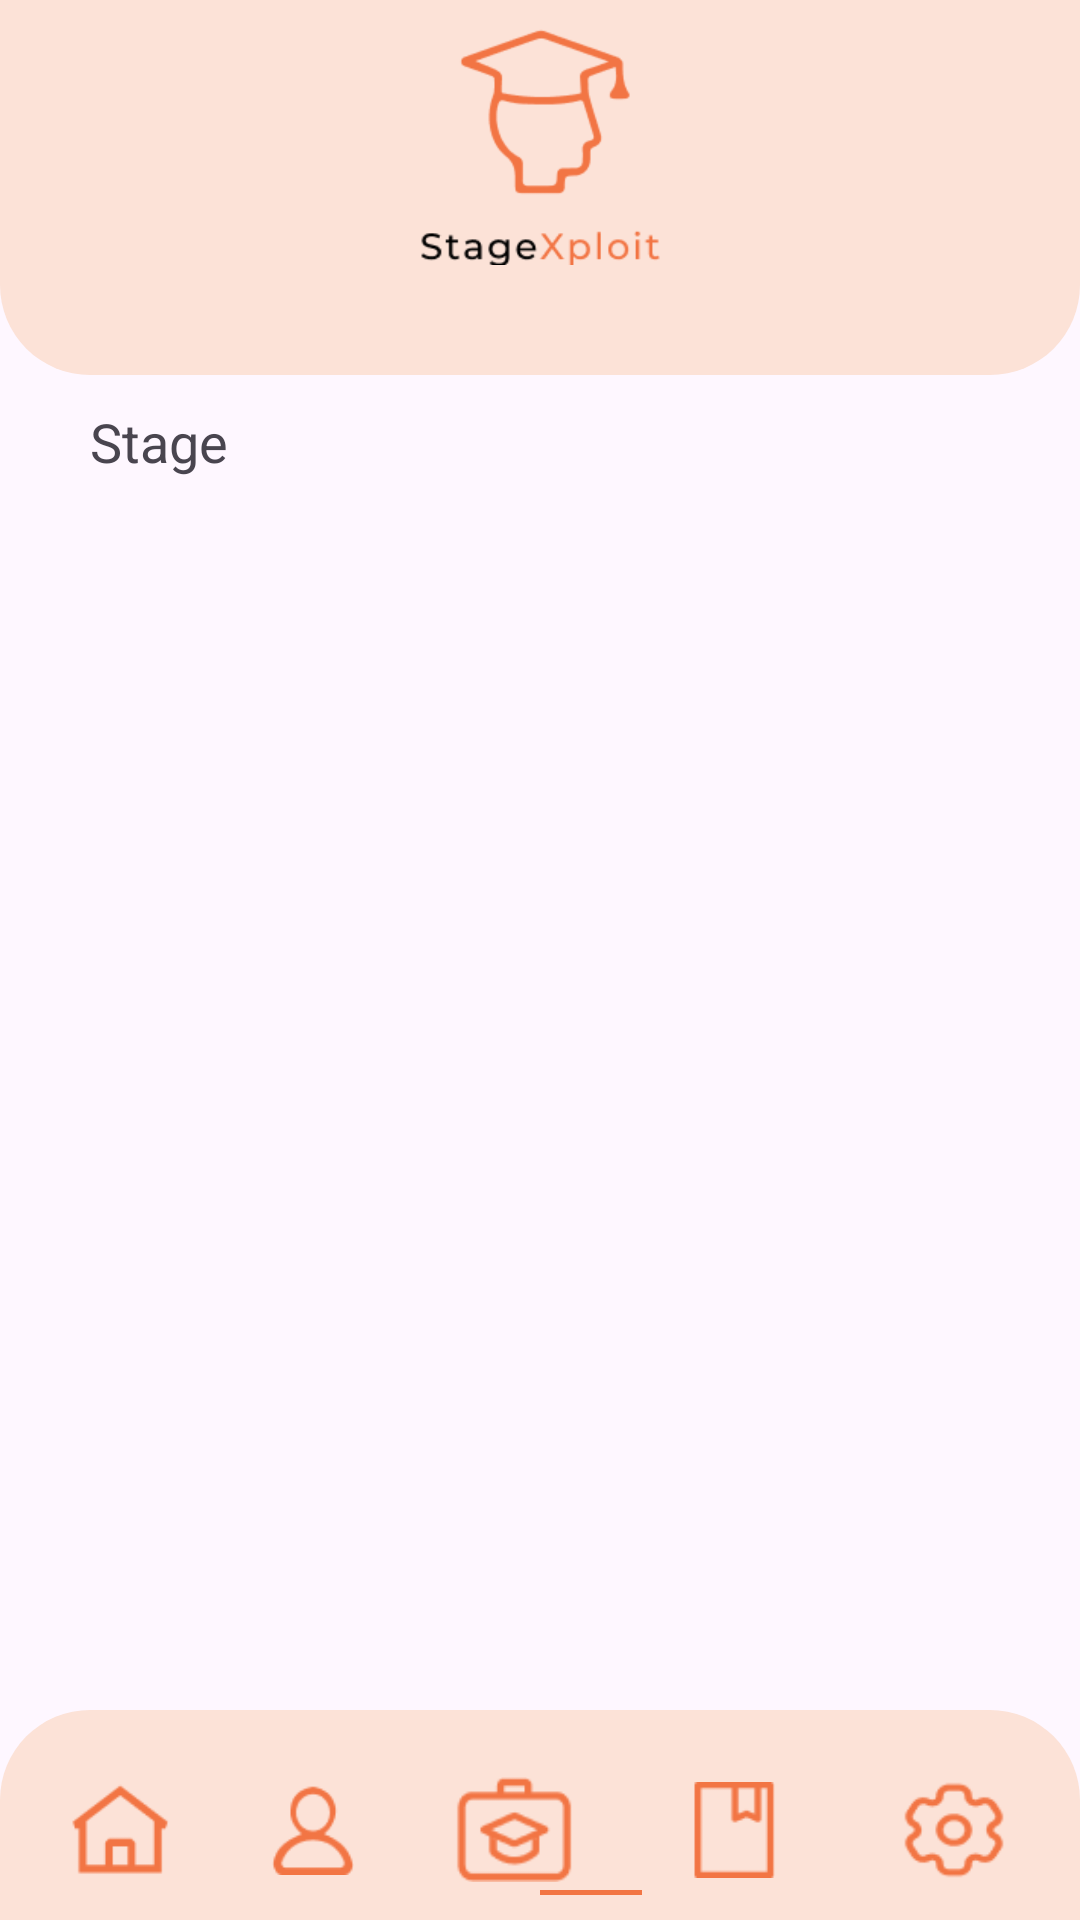

Point at icon controls on the screen. Image size 1080px x 1920px, points as [x,y].
accueil: [120,1830]
candidature: [734,1830]
parametre: [954,1830]
profil: [313,1830]
stage: [514,1830]
